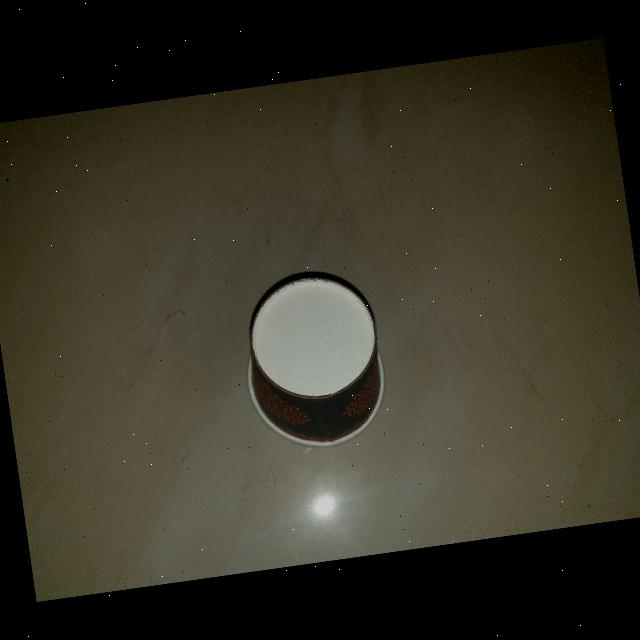trash: (220, 254, 400, 459)
